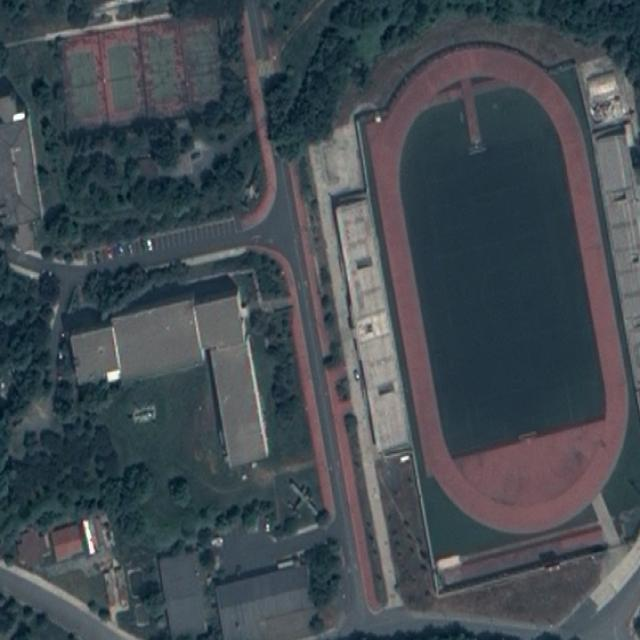Batiment: (62, 18, 220, 127), (194, 295, 268, 467), (216, 566, 312, 640), (112, 301, 201, 380), (219, 527, 328, 577), (159, 552, 208, 639), (70, 328, 120, 384), (50, 525, 82, 562)
